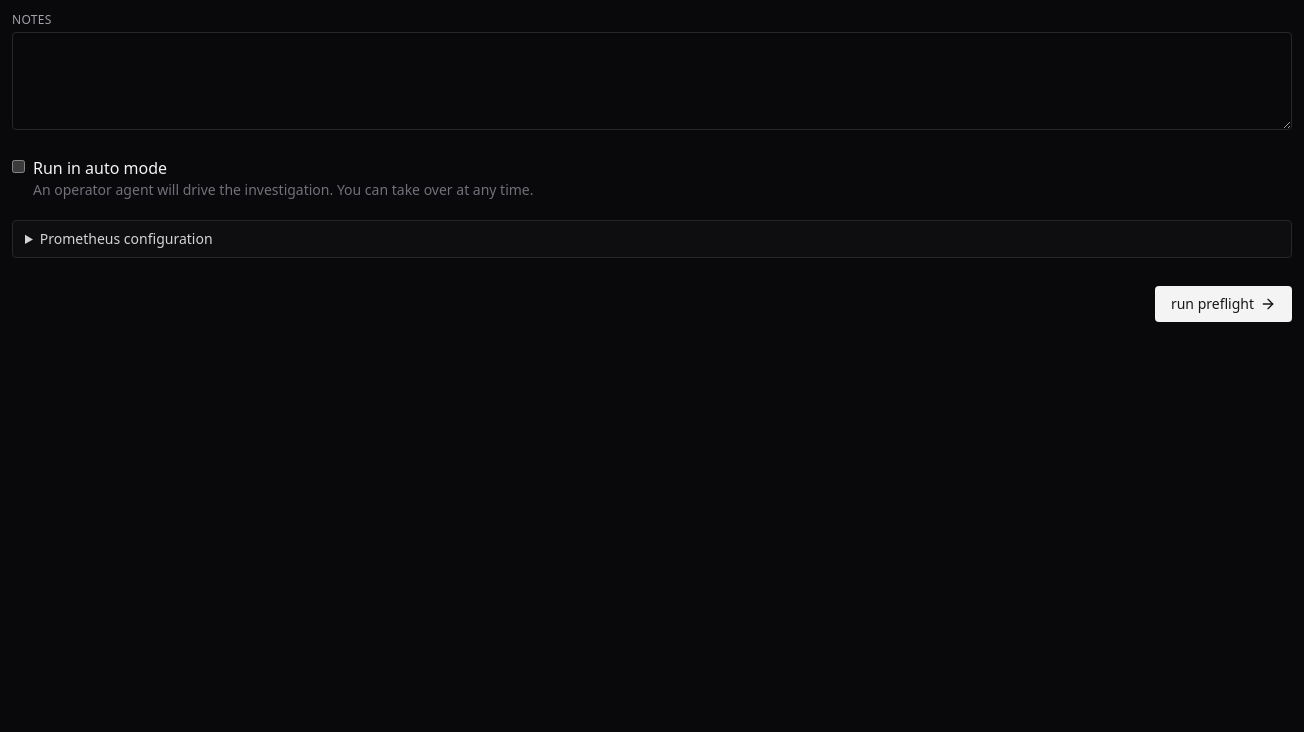
InvestigationForm › fills empty prom override fields from defaults when nothing was typed
Expected: the text "Notes" is shown, x1=12 y1=11 x2=52 y2=28
Click the heading "Prometheus configuration" at (126, 238), box x1=40 y1=229 x2=212 y2=248
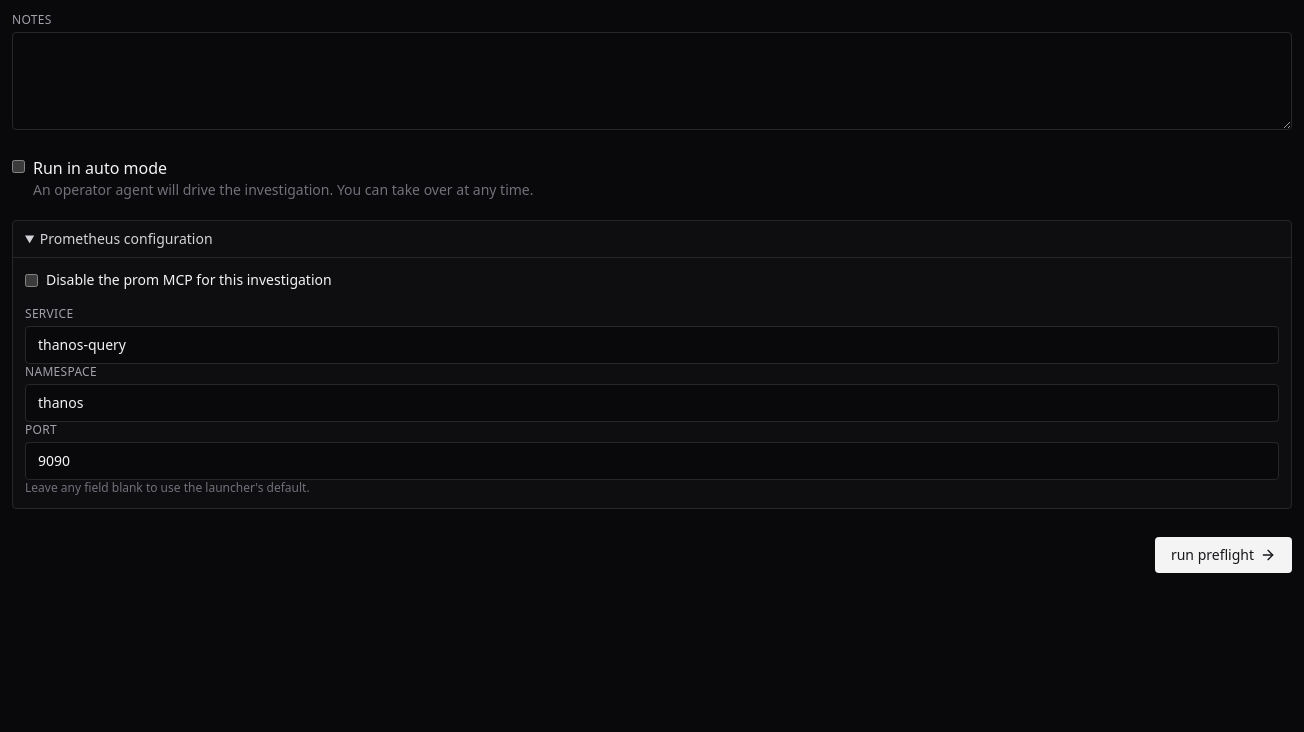
Now the field with placeholder "default-prometheus" holds "thanos-query", box x1=25 y1=326 x2=1279 y2=364
